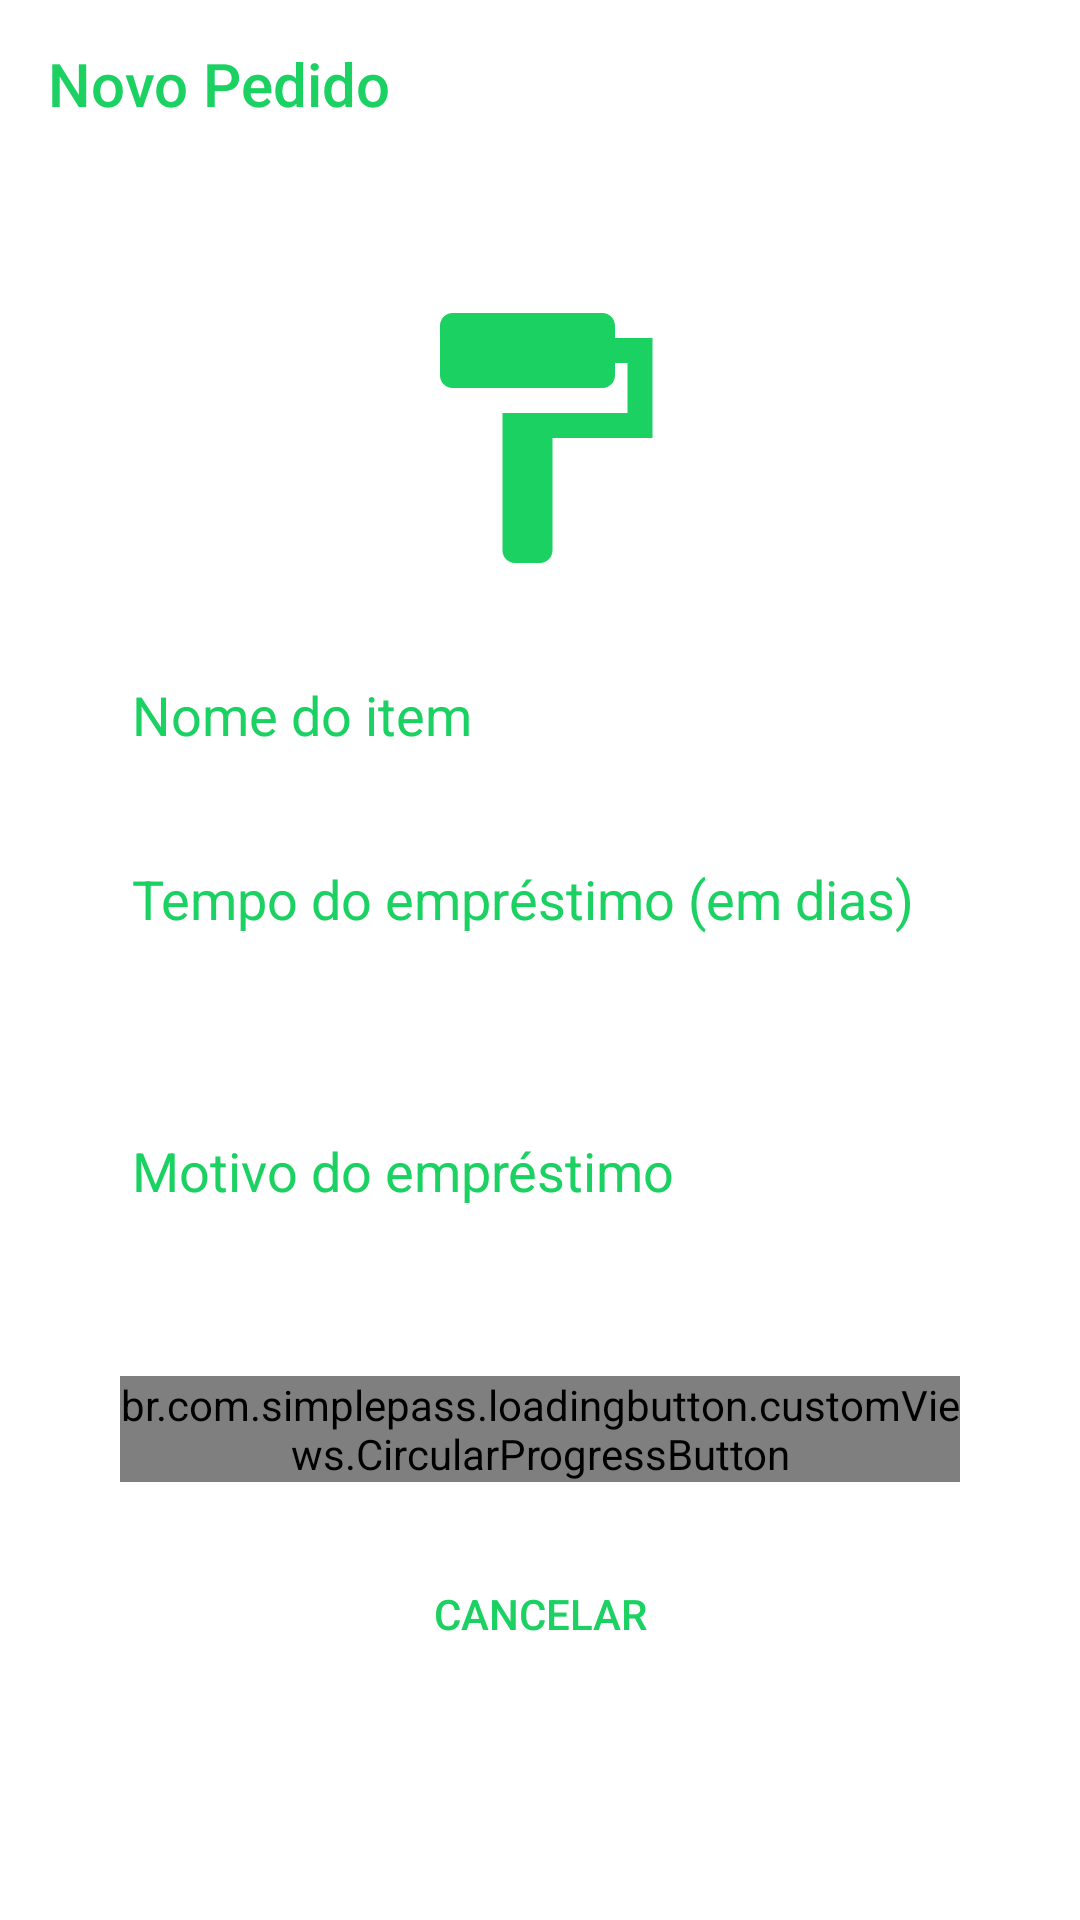

Locate icon controls on the screen. Image size 1080px×1920px, boxes as (x1, y1, x2, y2).
format paint: (440, 313, 653, 563)
